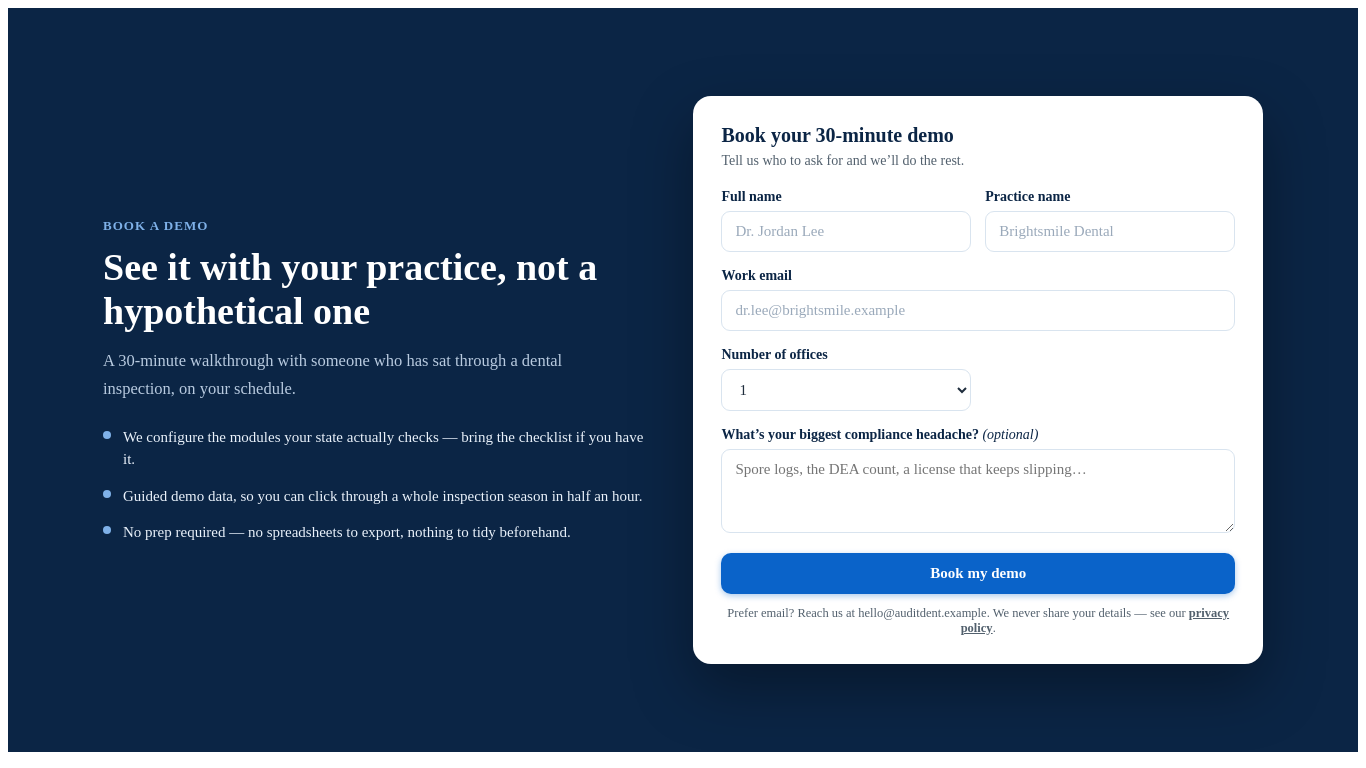
Test case: DemoCTA form › shows a field error for each empty required field on submit
Click the button "Book my demo" at (978, 574), box [721,553,1235,594]
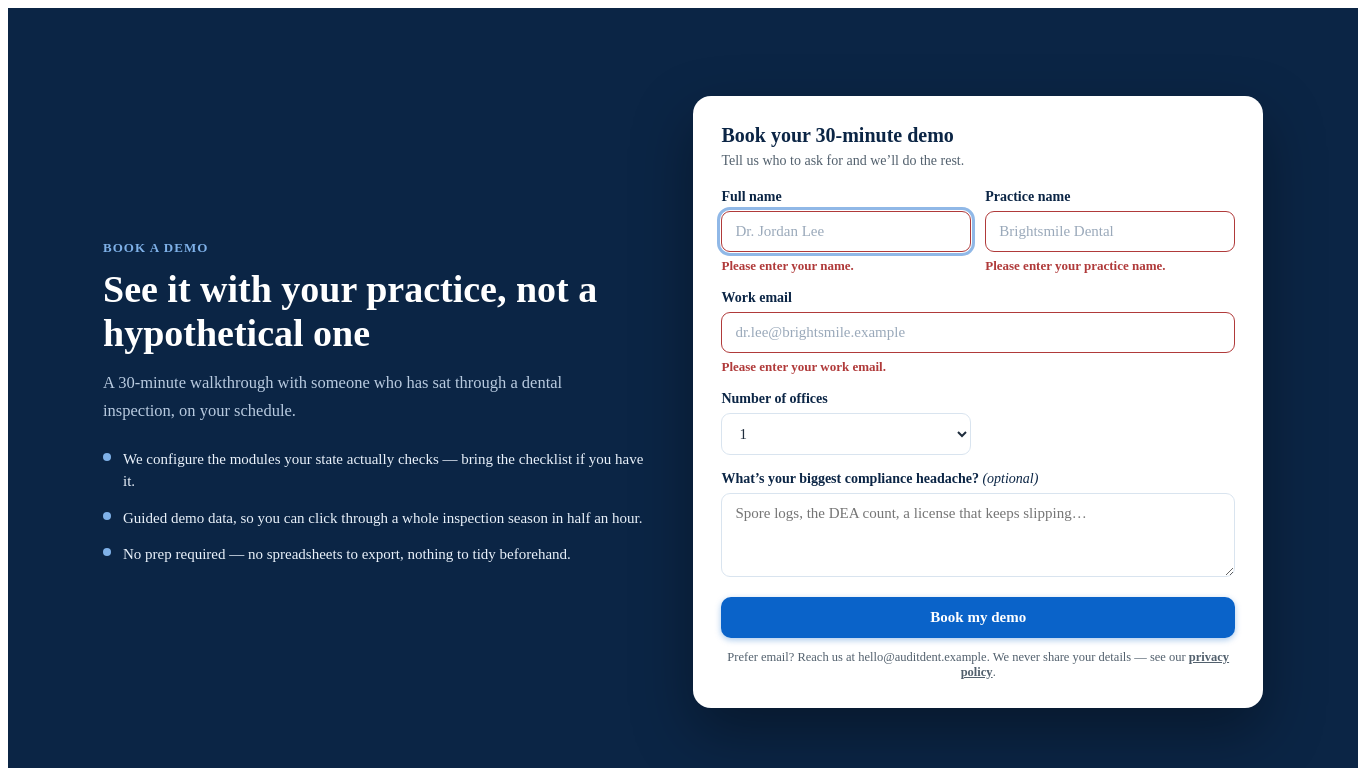
Check: the message "Please enter your name." is shown, box [721,258,854,273]
Check: the message "Please enter your practice name." is shown, box [985,258,1166,273]
Check: the message "Please enter your work email." is shown, box [721,359,886,374]
